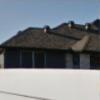chimneys: (44, 26, 50, 32)
